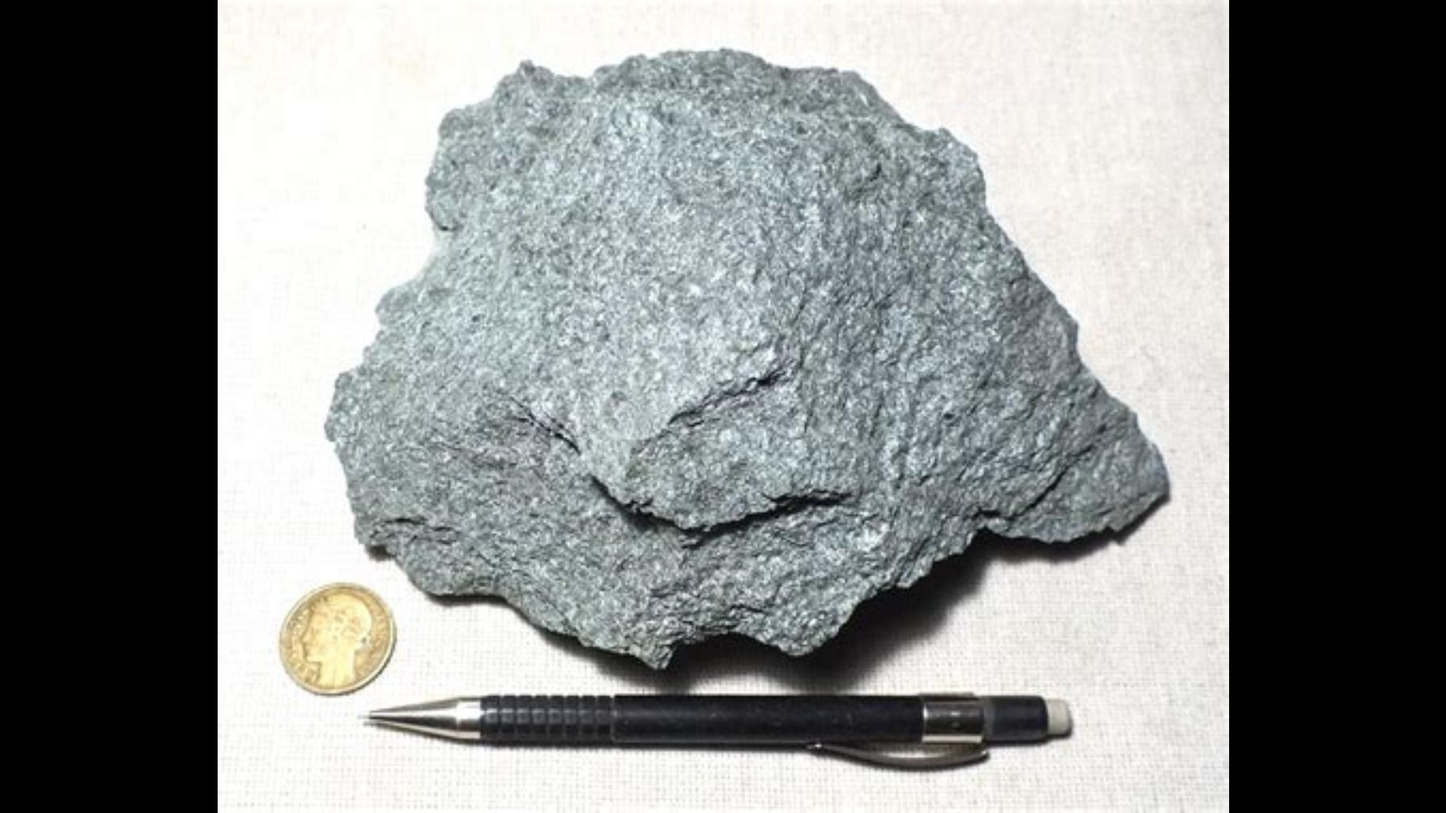rock: (328, 51, 1163, 659)
